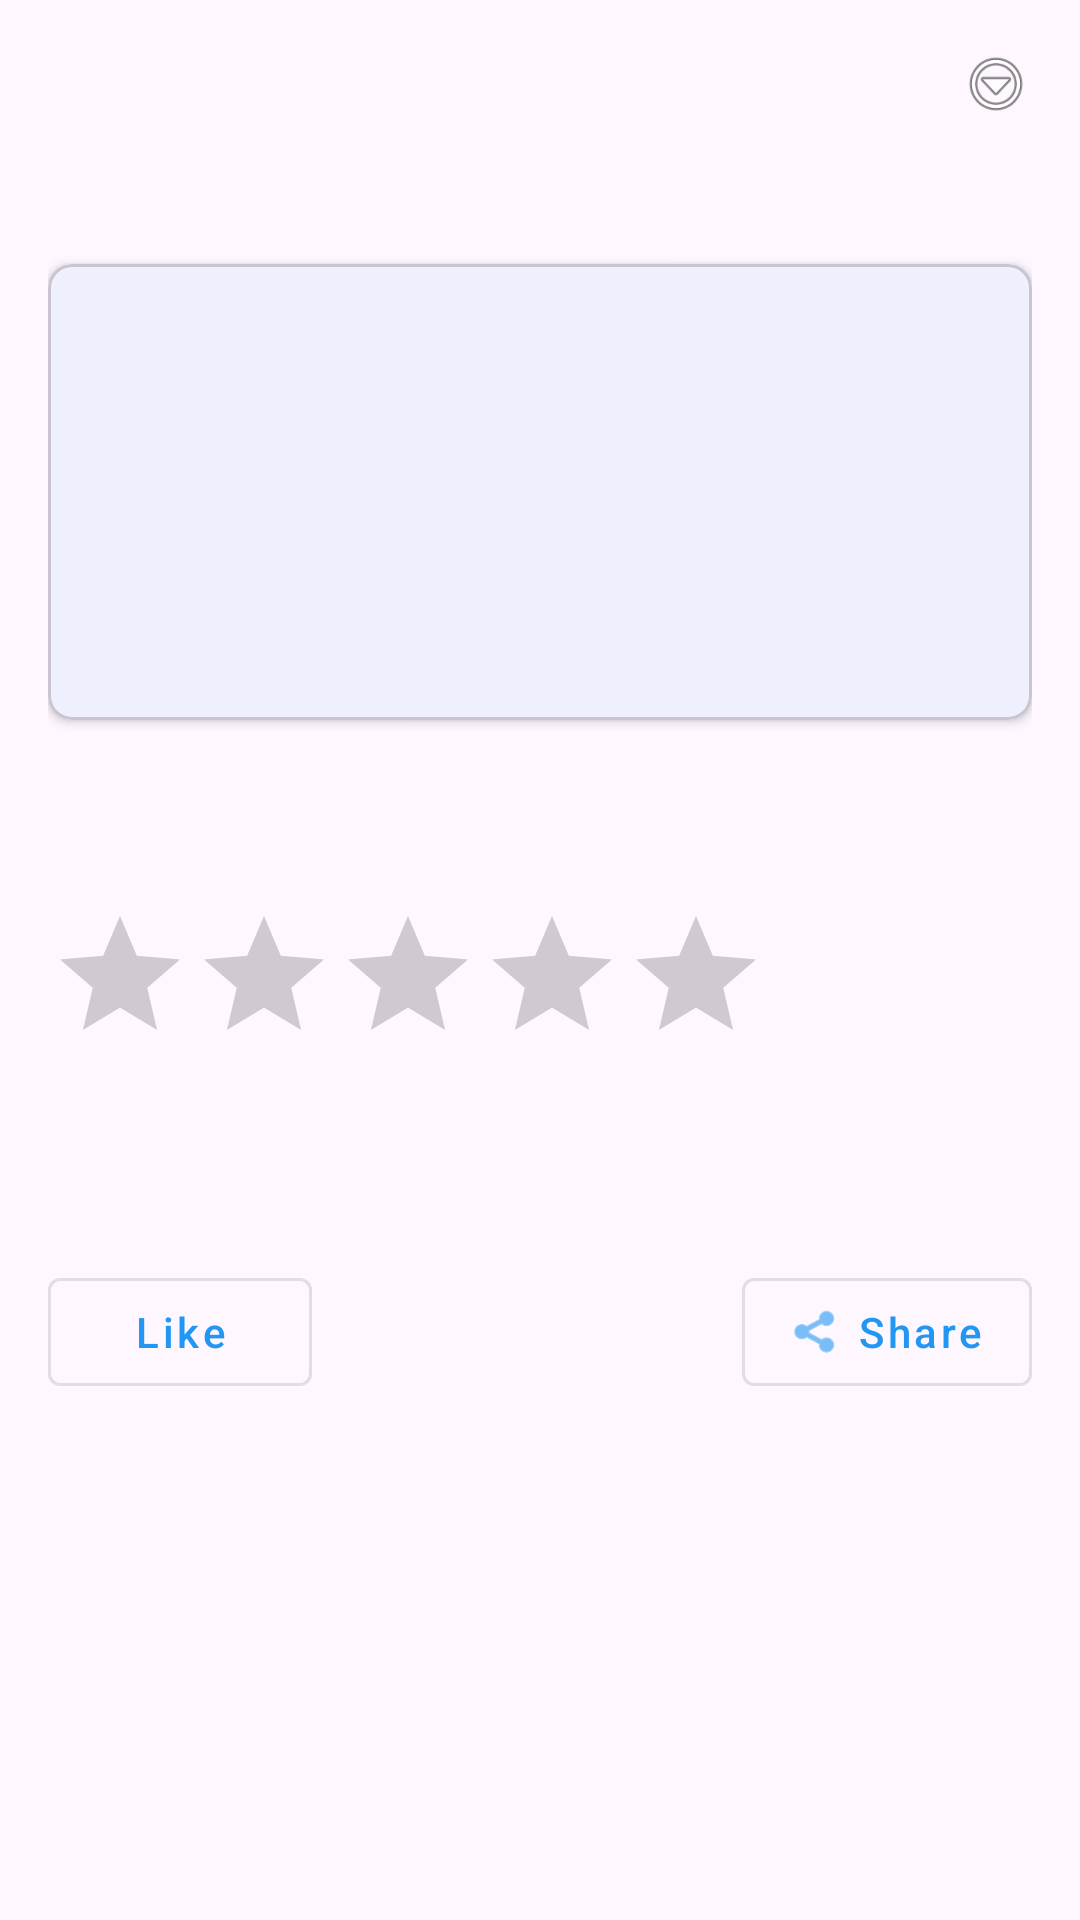

Icons on this 1080*1920 Android screen, each with its box as (x1, y1, x2, y2):
more: (969, 57, 1023, 111)
